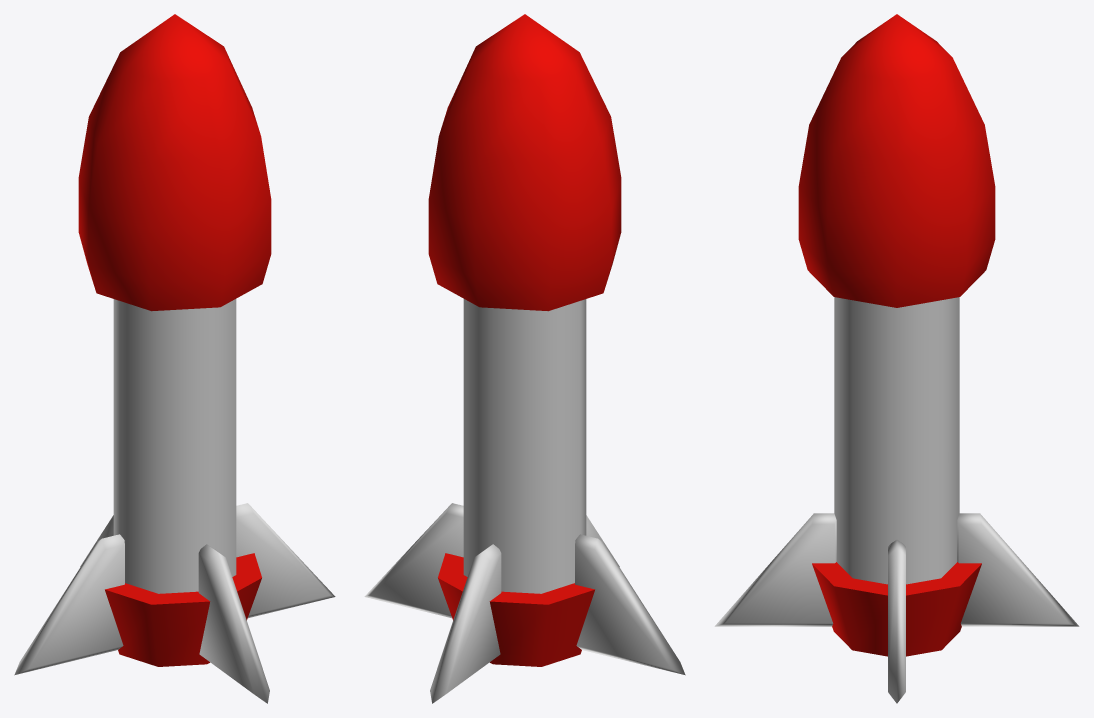
The model's file is missile.fbx.
3 renders of one model, left to right at view 1: azimuth 30°, elevation 25°; view 2: azimuth 150°, elevation 25°; view 3: azimuth 270°, elevation 25°, orthographic.
Parts seen in each view (by area): view 1: Missile; view 2: Missile; view 3: Missile.
Boxes of the visible parts, x1,y1,x2,y2 form: Missile: (14, 14, 335, 703); Missile: (364, 14, 685, 703); Missile: (714, 14, 1079, 703).
Size of the model in its own units: 583 by 1087 by 583.
